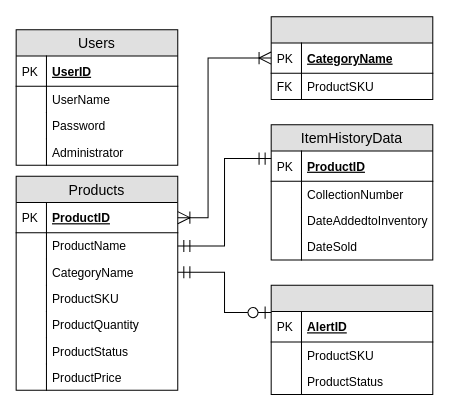
The diagram is 449 pixels wide and 411 high, and some of its shapes have lost their labels. Here are the shapes that lost their labels. From the top down, the box of each, then its label:
(270, 16, 433, 99): Categories
(270, 284, 433, 394): Alerts
